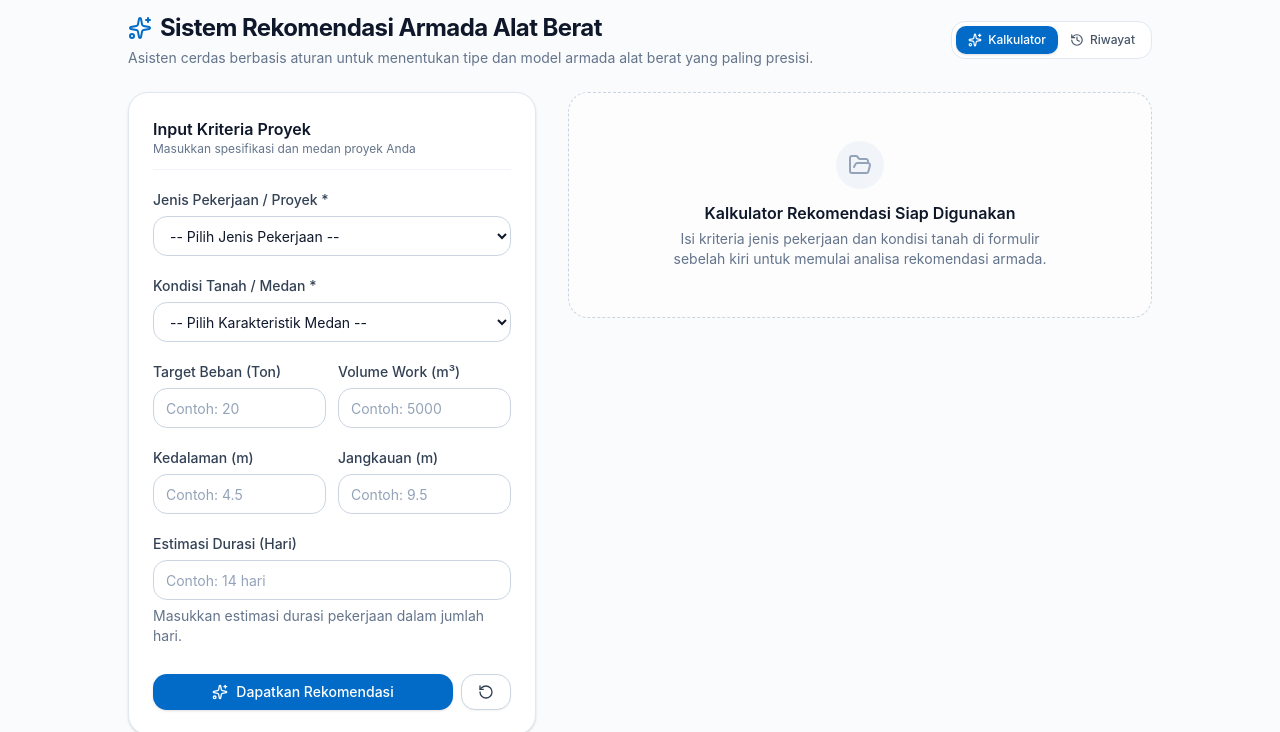
Scenario: Recommendation UI Suite › switches to history tab and lists past recommendation requests
This screenshot has width=1280, height=732.
Step 1. Click the button "Riwayat" → (1102, 40), box [1058,26,1147,54]
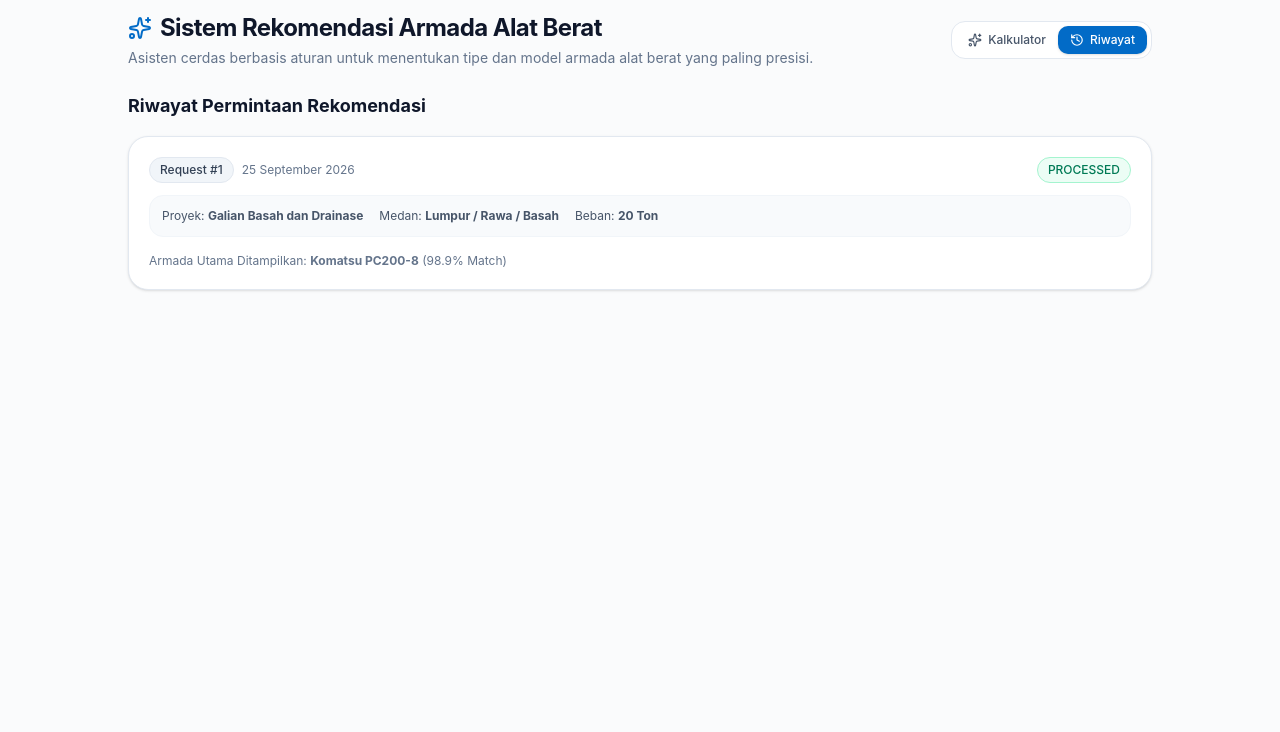
Check: the heading "Riwayat Permintaan Rekomendasi" is shown, box [128,95,426,116]
Check: the text "Request #1" is shown, box [149,157,234,183]
Check: the text "Galian Basah dan Drainase" is shown, box [208,208,363,223]
